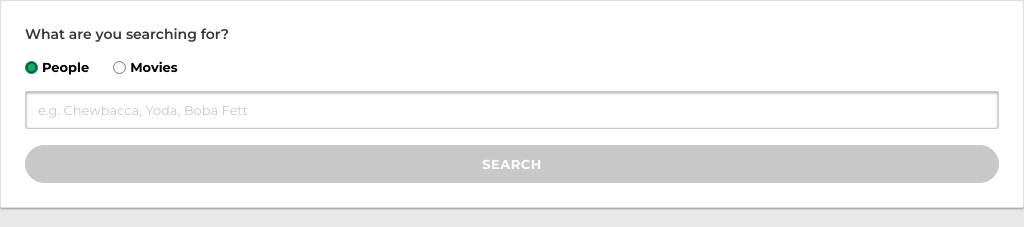
Test: SearchBox › search button enables when text is entered
The width and height of the screenshot is (1024, 227).
Step 1. Type "luke" into the field with placeholder "e.g. Chewbacca, Yoda, Boba Fett" → (512, 110), box [25,91,999,129]
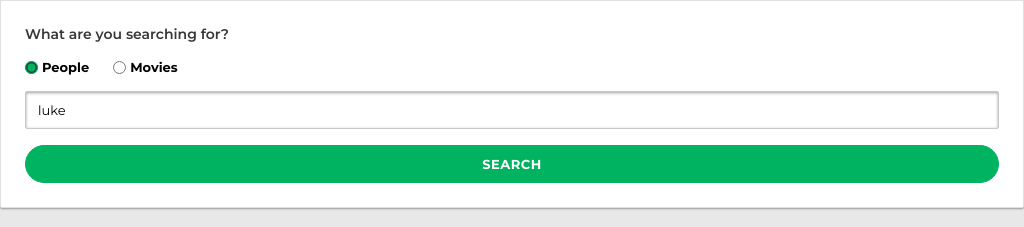
Check: the button "SEARCH" is enabled, box [25,145,999,183]
